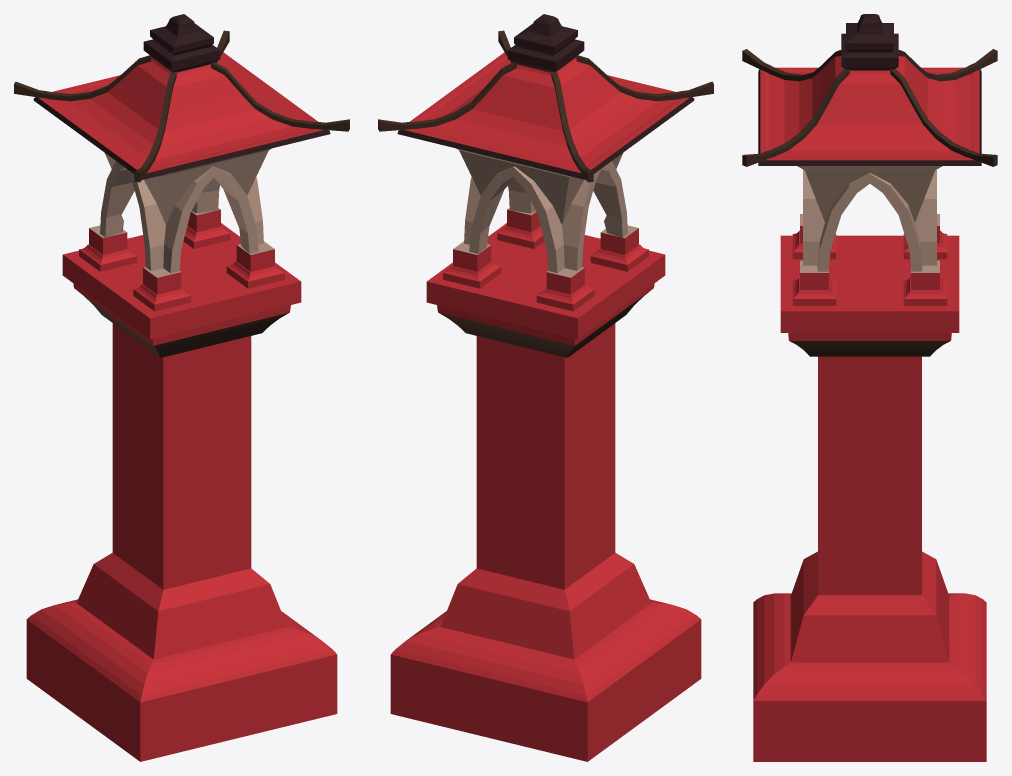
File: Lantern_post.fbx
The picture shows the model from 3 angles, left to right: view 1: azimuth 30°, elevation 25°; view 2: azimuth 150°, elevation 25°; view 3: azimuth 270°, elevation 25°; orthographic projection. The views are drawn at different scales.
Parts seen in each view (by area): view 1: A Lantern; view 2: A Lantern; view 3: A Lantern.
Boxes of the visible parts, x1,y1,x2,y2 form: A Lantern: (14,14,349,761); A Lantern: (378,14,713,761); A Lantern: (742,14,997,761).
Bounding box in the file's own units: 48.54 × 146 × 48.54.
